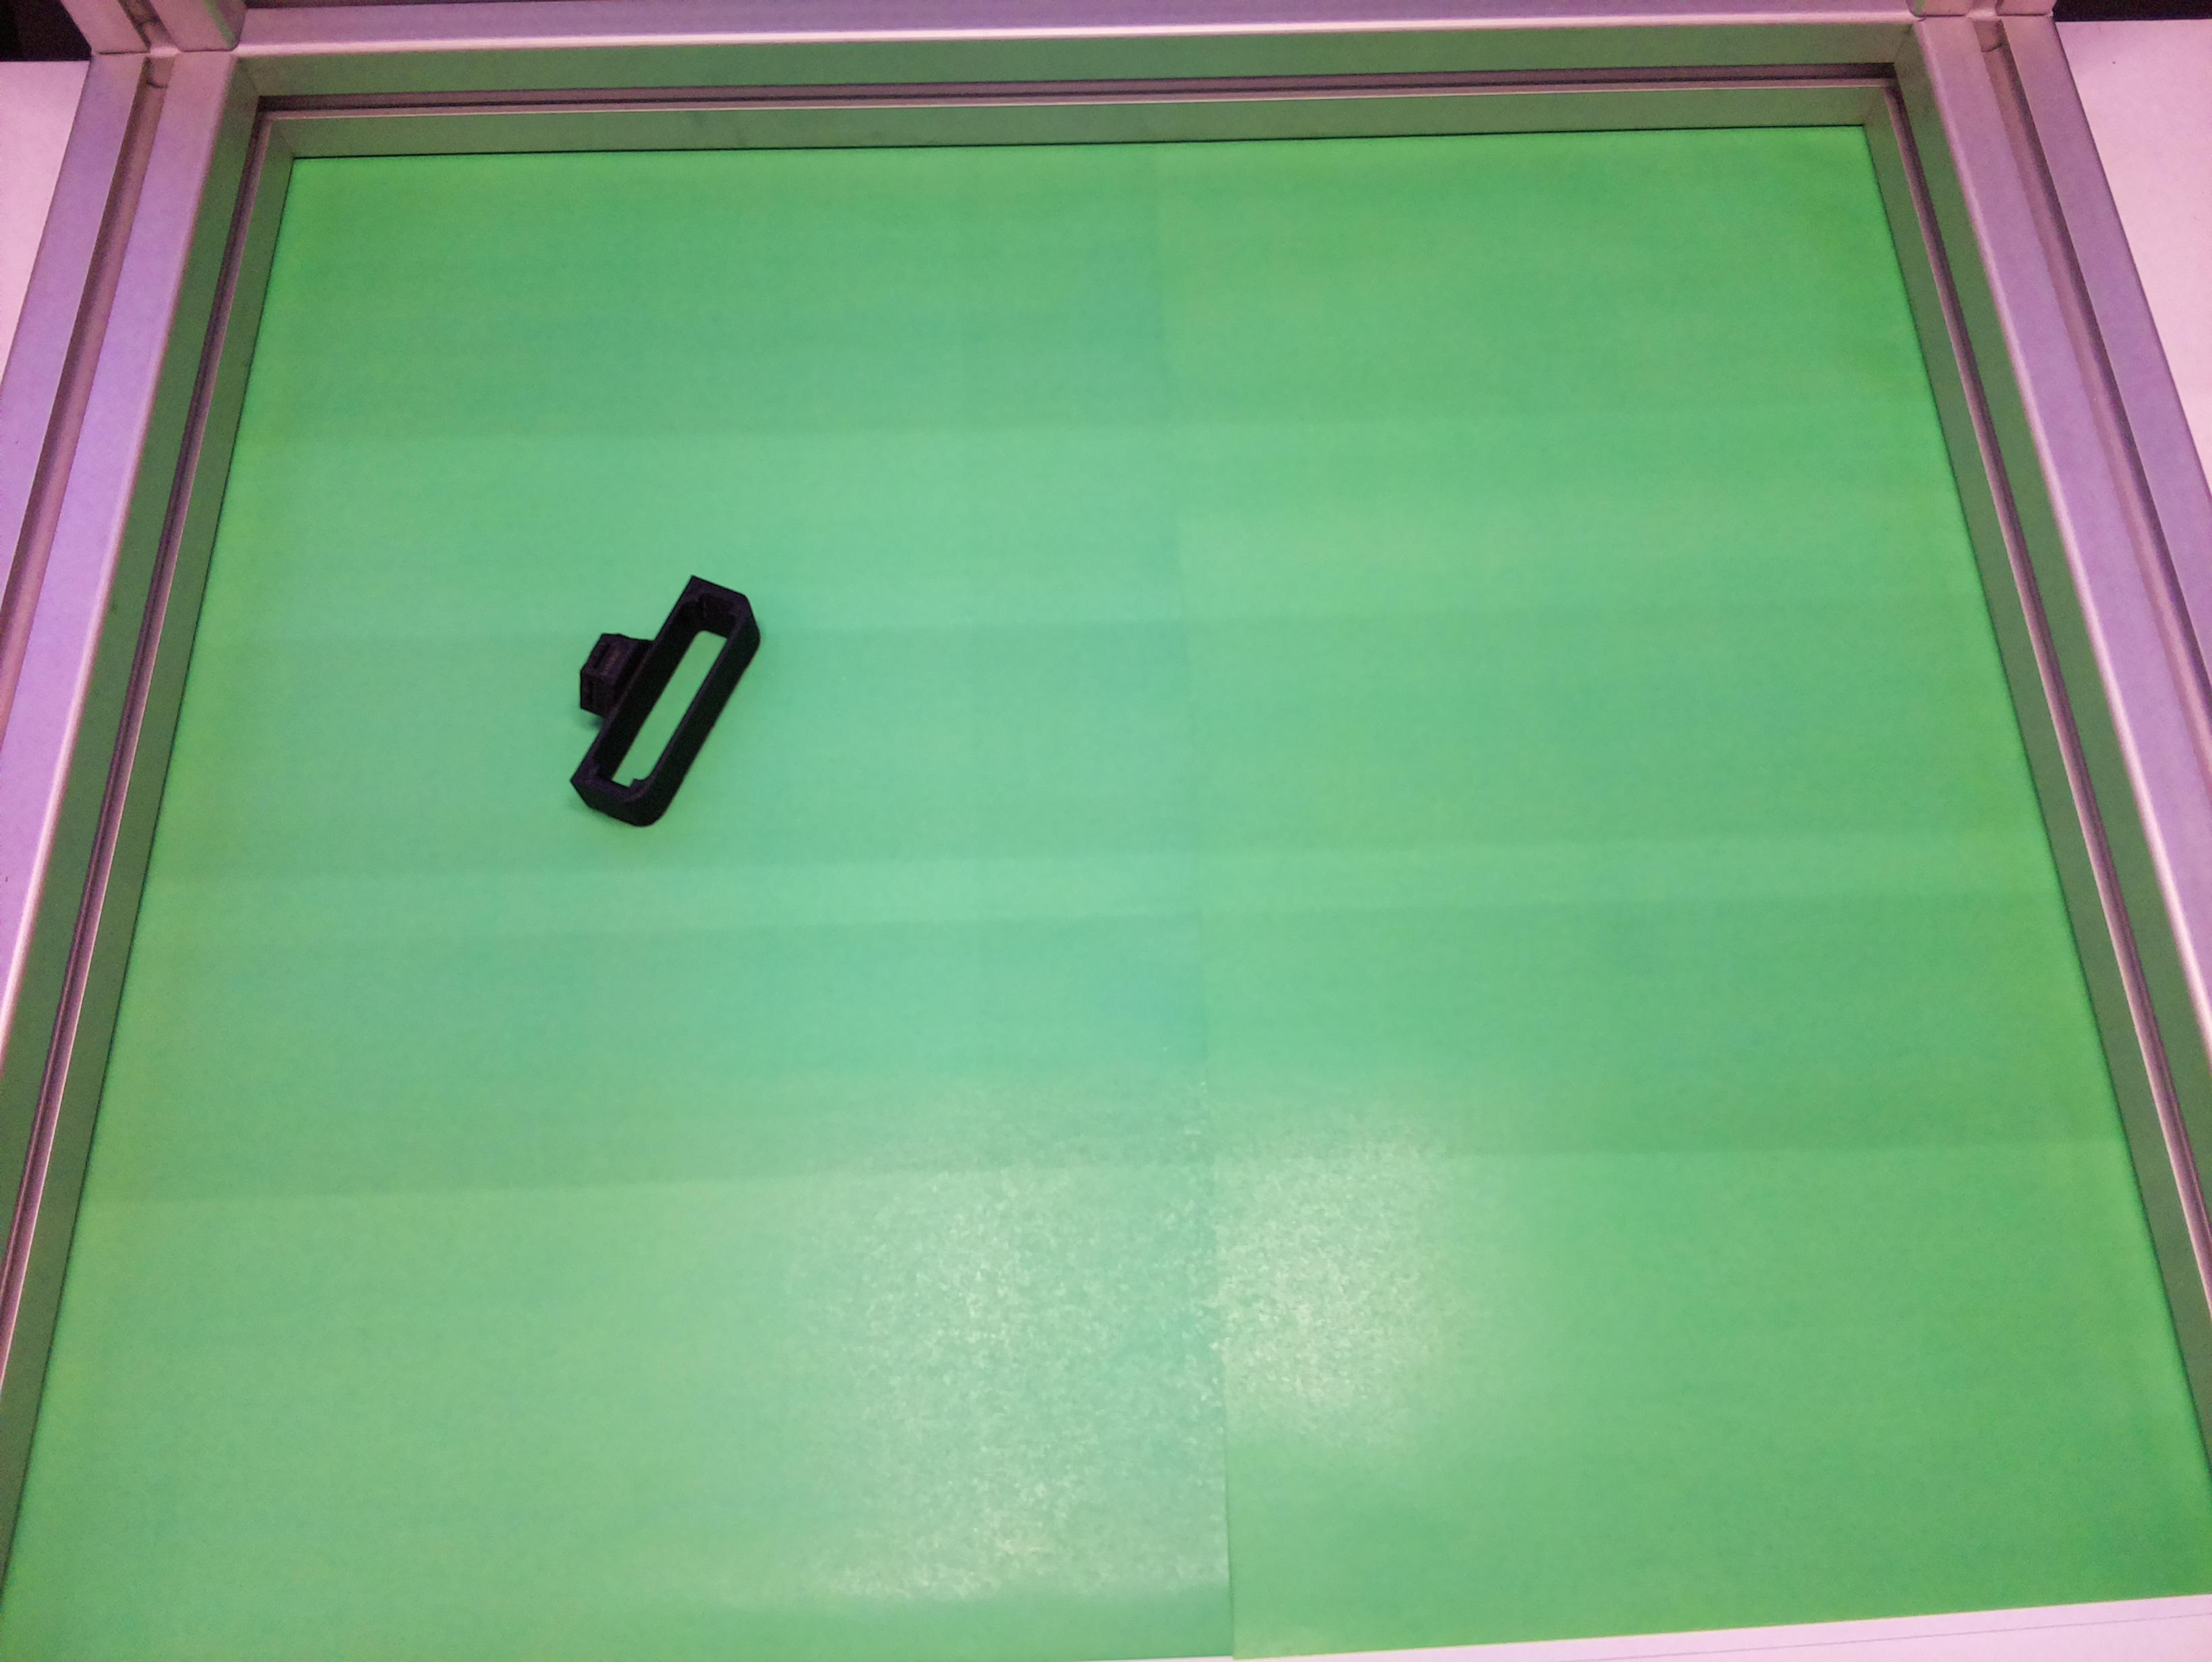cutter_holder: (525, 544, 777, 840)
